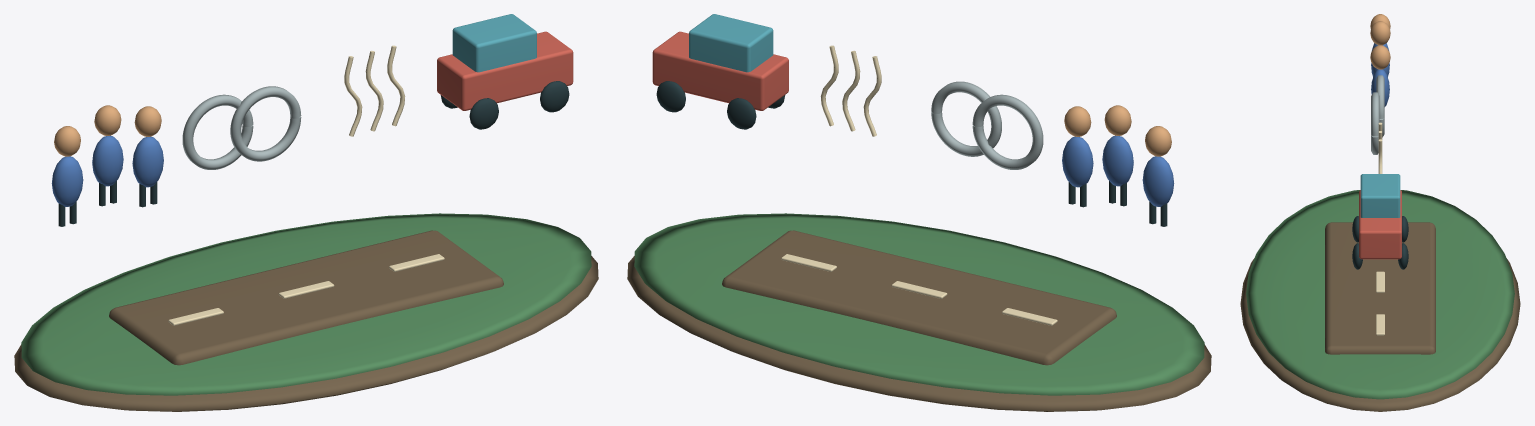
Rendered from complete-first-public-bus.glb.
3 renders of one model, left to right at view 1: azimuth 30°, elevation 25°; view 2: azimuth 150°, elevation 25°; view 3: azimuth 270°, elevation 25°, orthographic. The views are drawn at different scales.
Parts seen in each view (by area): view 1: complete-first-public-bus_surface_01, complete-first-public-bus_surface_00, complete-first-public-bus_surface_07, complete-first-public-bus_surface_05, complete-first-public-bus_surface_03, complete-first-public-bus_surface_08, complete-first-public-bus_surface_06, complete-first-public-bus_surface_04, complete-first-public-bus_surface_02; view 2: complete-first-public-bus_surface_01, complete-first-public-bus_surface_00, complete-first-public-bus_surface_07, complete-first-public-bus_surface_05, complete-first-public-bus_surface_03, complete-first-public-bus_surface_08, complete-first-public-bus_surface_06, complete-first-public-bus_surface_04, complete-first-public-bus_surface_02; view 3: complete-first-public-bus_surface_01, complete-first-public-bus_surface_00, complete-first-public-bus_surface_07, complete-first-public-bus_surface_08, complete-first-public-bus_surface_02, complete-first-public-bus_surface_05, complete-first-public-bus_surface_04, complete-first-public-bus_surface_06, complete-first-public-bus_surface_03.
Boxes of the visible parts, x1,y1,x2,y2 form: complete-first-public-bus_surface_01: (21,213,591,395); complete-first-public-bus_surface_00: (14,230,598,411); complete-first-public-bus_surface_07: (437,31,573,110); complete-first-public-bus_surface_05: (182,86,301,169); complete-first-public-bus_surface_03: (51,135,163,206); complete-first-public-bus_surface_08: (452,14,536,72); complete-first-public-bus_surface_06: (168,45,444,325); complete-first-public-bus_surface_04: (58,81,569,226); complete-first-public-bus_surface_02: (54,105,161,156); complete-first-public-bus_surface_01: (634,213,1204,395); complete-first-public-bus_surface_00: (627,230,1211,411); complete-first-public-bus_surface_07: (652,31,788,110); complete-first-public-bus_surface_05: (931,81,1043,169); complete-first-public-bus_surface_03: (1062,135,1174,206); complete-first-public-bus_surface_08: (689,14,773,72); complete-first-public-bus_surface_06: (781,45,1057,325); complete-first-public-bus_surface_04: (656,81,1167,226); complete-first-public-bus_surface_02: (1064,105,1171,156); complete-first-public-bus_surface_01: (1246,190,1514,399); complete-first-public-bus_surface_00: (1240,222,1520,411); complete-first-public-bus_surface_07: (1359,190,1401,259); complete-first-public-bus_surface_08: (1360,174,1400,217); complete-first-public-bus_surface_02: (1370,14,1390,69); complete-first-public-bus_surface_05: (1371,75,1384,154); complete-first-public-bus_surface_04: (1352,216,1408,269); complete-first-public-bus_surface_06: (1376,122,1384,335); complete-first-public-bus_surface_03: (1371,43,1389,106).
Size of the model in its own units: 4.56 by 2.15 by 2.5.
